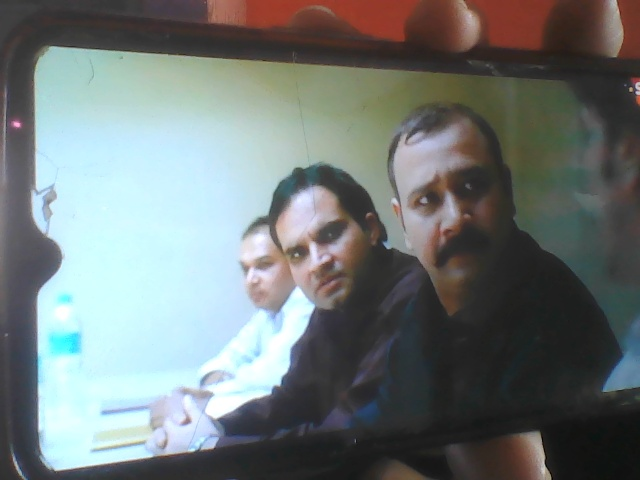fake: (390, 93, 532, 295), (263, 154, 385, 327)
